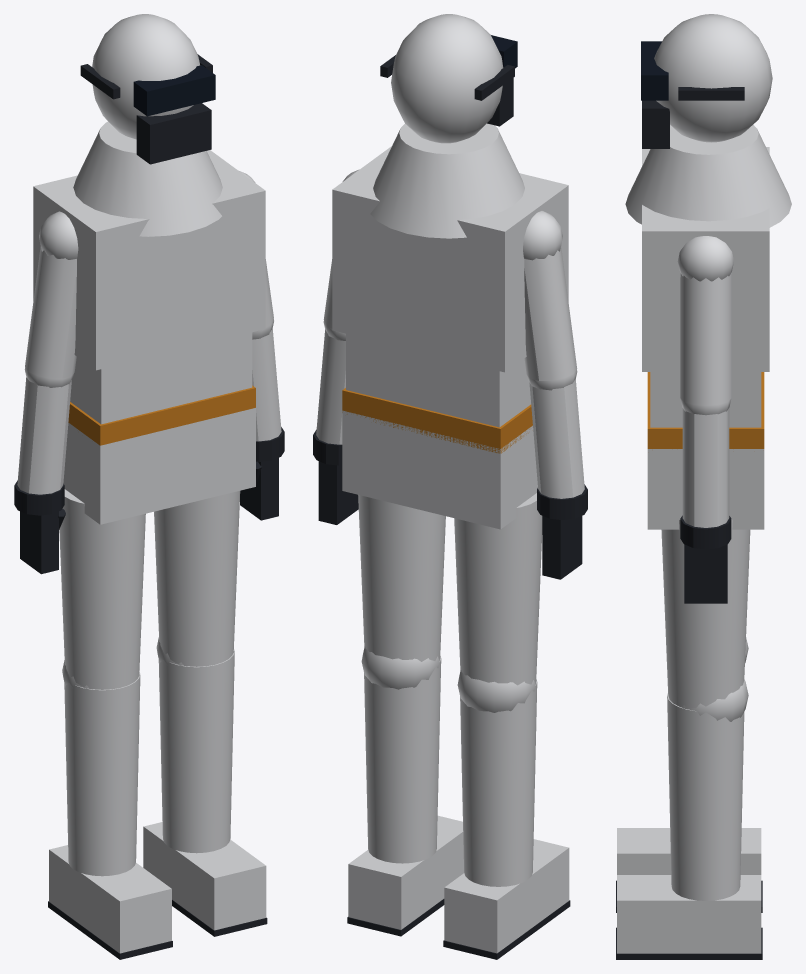
File: person_ref.glb
3 renders of one model, left to right at view 1: azimuth 30°, elevation 25°; view 2: azimuth 150°, elevation 25°; view 3: azimuth 270°, elevation 25°, orthographic.
Visible parts, largest first — view 1: person_ref_mesh; view 2: person_ref_mesh; view 3: person_ref_mesh.
Part boxes in pixels (box(x1,y1,x2,y2)): person_ref_mesh: box(14, 14, 284, 959); person_ref_mesh: box(313, 14, 587, 959); person_ref_mesh: box(616, 14, 791, 959).
Bounding box in the file's own units: 0.5579 × 1.8 × 0.317.
